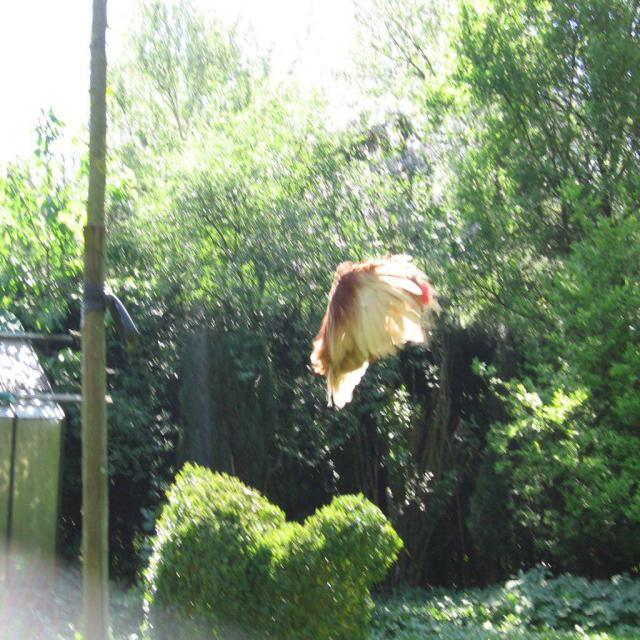Chicken: (303, 261, 443, 411)
